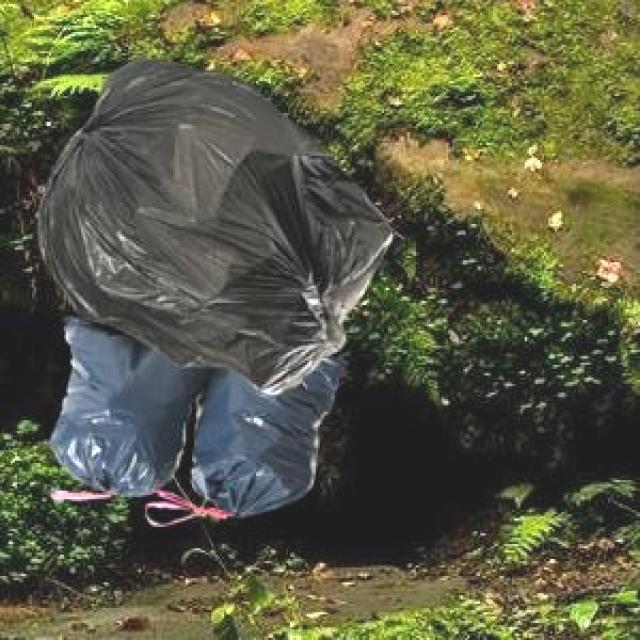Trashbag: (37, 53, 394, 394), (45, 314, 215, 501), (186, 350, 347, 518)
